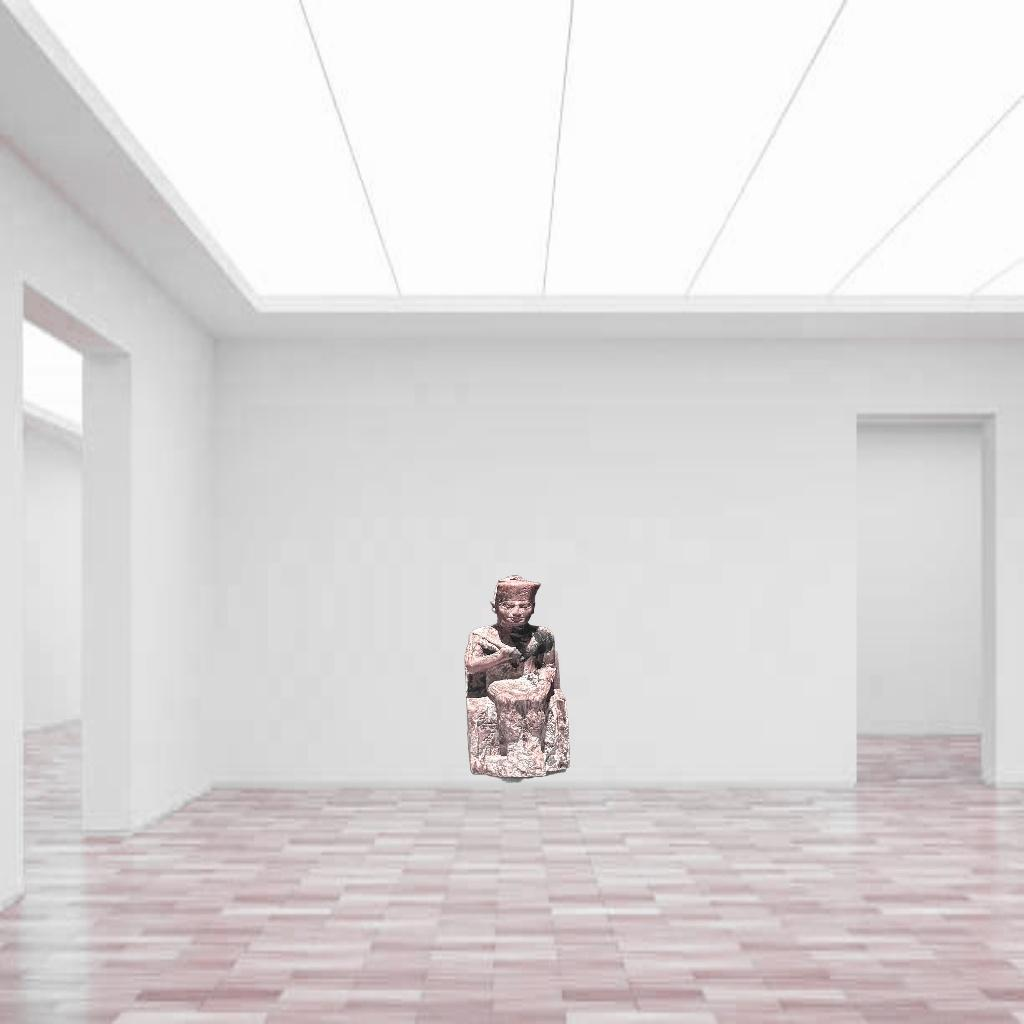Statue of Khufu: (462, 572, 572, 784)
